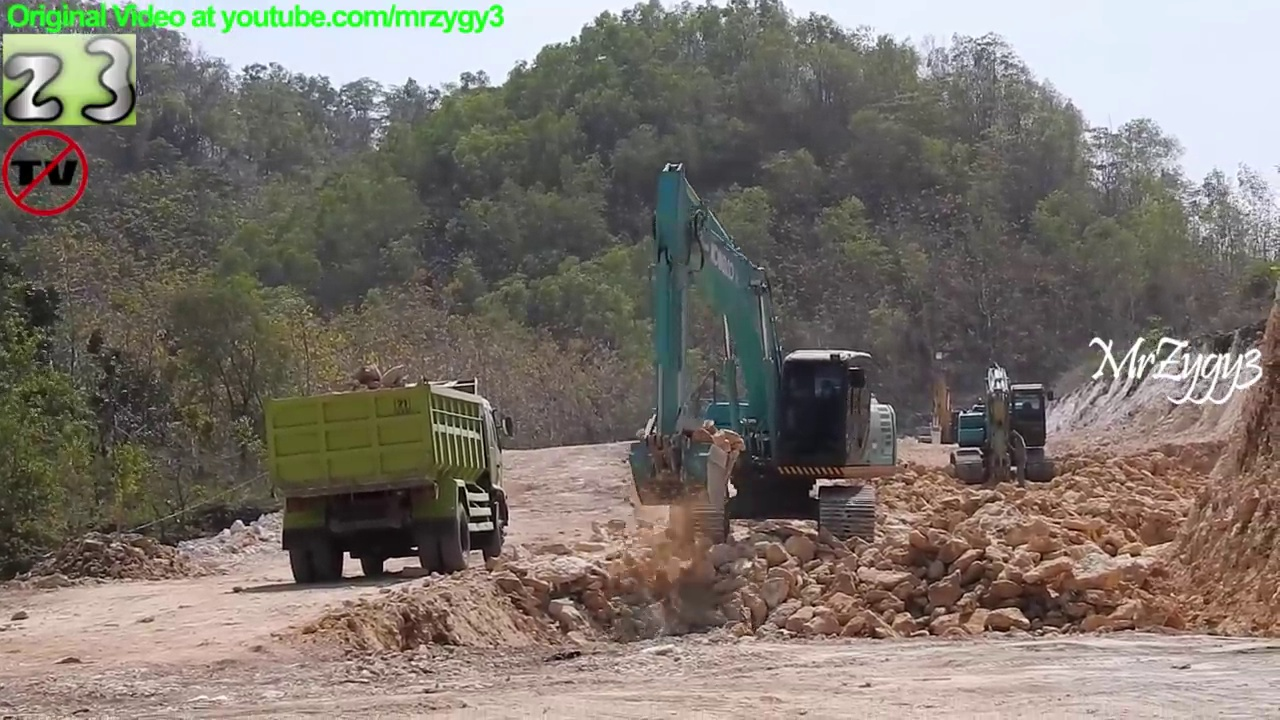excavator: (624, 158, 905, 559), (907, 350, 978, 454)
excavator breaker: (947, 358, 1060, 492)
truck: (255, 374, 519, 590)
worker: (1004, 424, 1035, 490)
